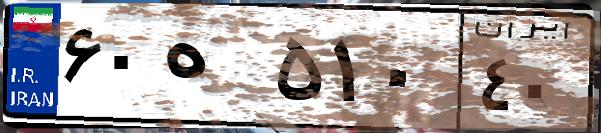0: (385, 28, 445, 110), (525, 38, 570, 115), (110, 28, 158, 98)
1: (330, 28, 385, 110)
4: (475, 38, 525, 113)
5: (270, 28, 330, 110)
6: (57, 26, 110, 100)
ه: (158, 20, 270, 120)
